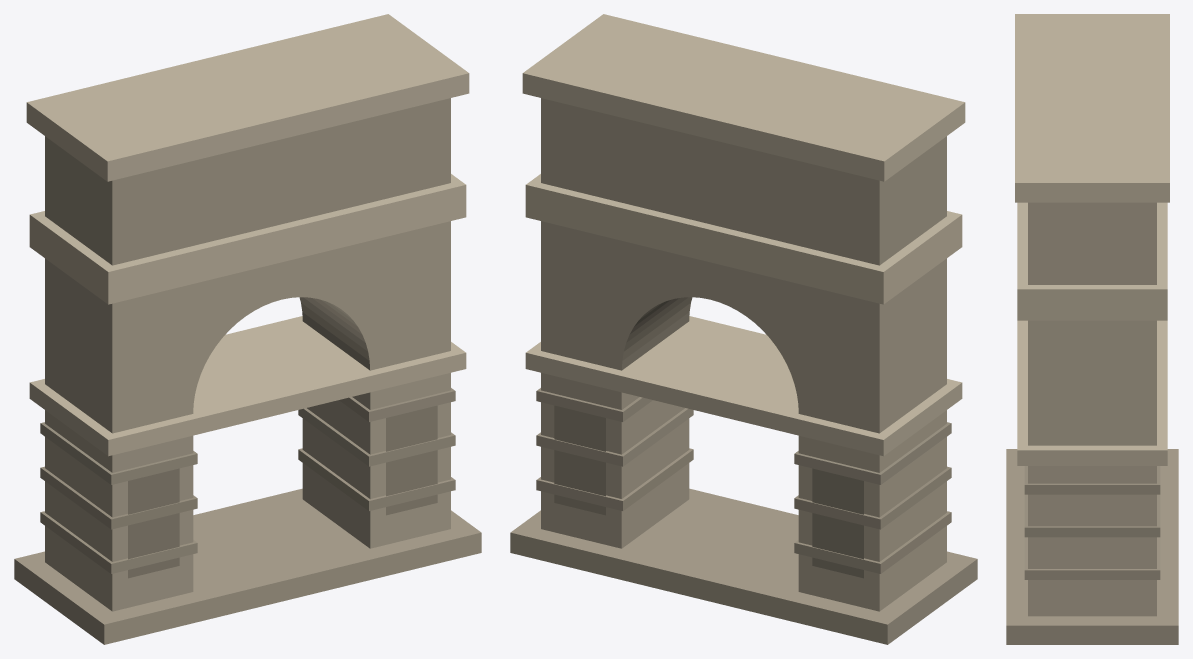
3 views of the same model, side by side, from view 1: azimuth 30°, elevation 25°; view 2: azimuth 150°, elevation 25°; view 3: azimuth 270°, elevation 25° (orthographic). The views are drawn at different scales.
Visible parts, largest first — view 1: washington-square-arch-lod1; view 2: washington-square-arch-lod1; view 3: washington-square-arch-lod1.
Boxes of the visible parts, x1,y1,x2,y2 form: washington-square-arch-lod1: (14,14,481,644); washington-square-arch-lod1: (510,14,977,644); washington-square-arch-lod1: (1006,14,1178,644).
Bounding box in the file's own units: 38.8 × 47 × 16.
